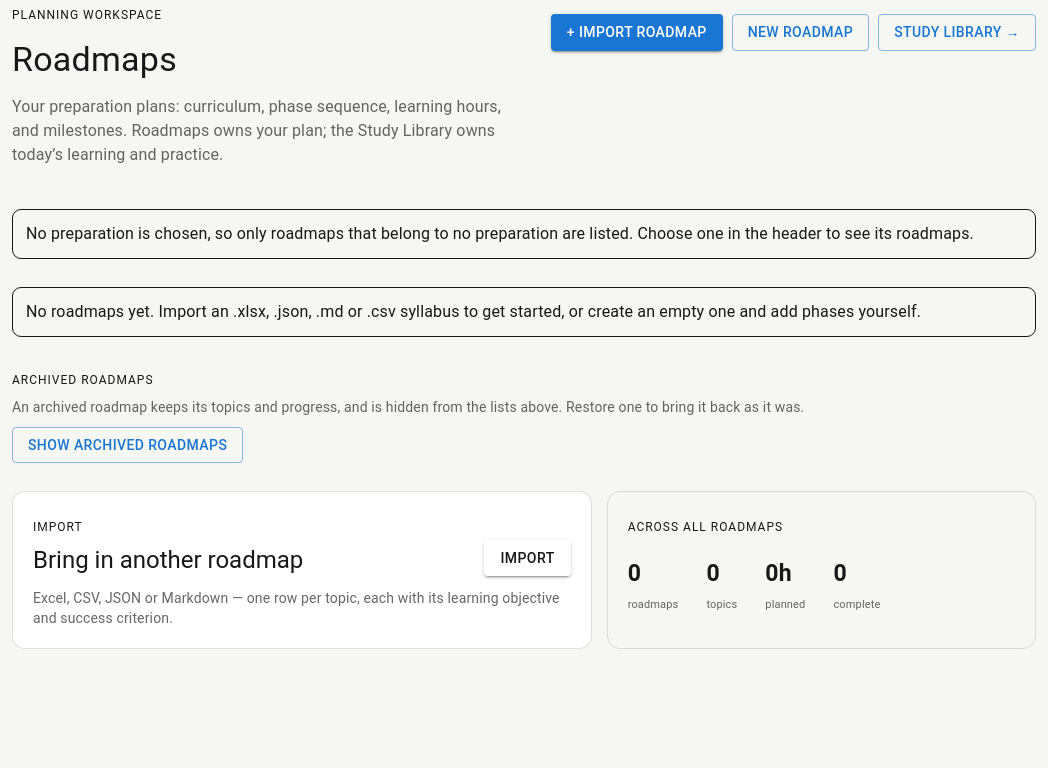
Test: RoadmapListPage: archived roadmaps can be restored › says a restore that failed changed nothing
Click the button "Show archived roadmaps" at (128, 445), box 12,427 -> 243,463
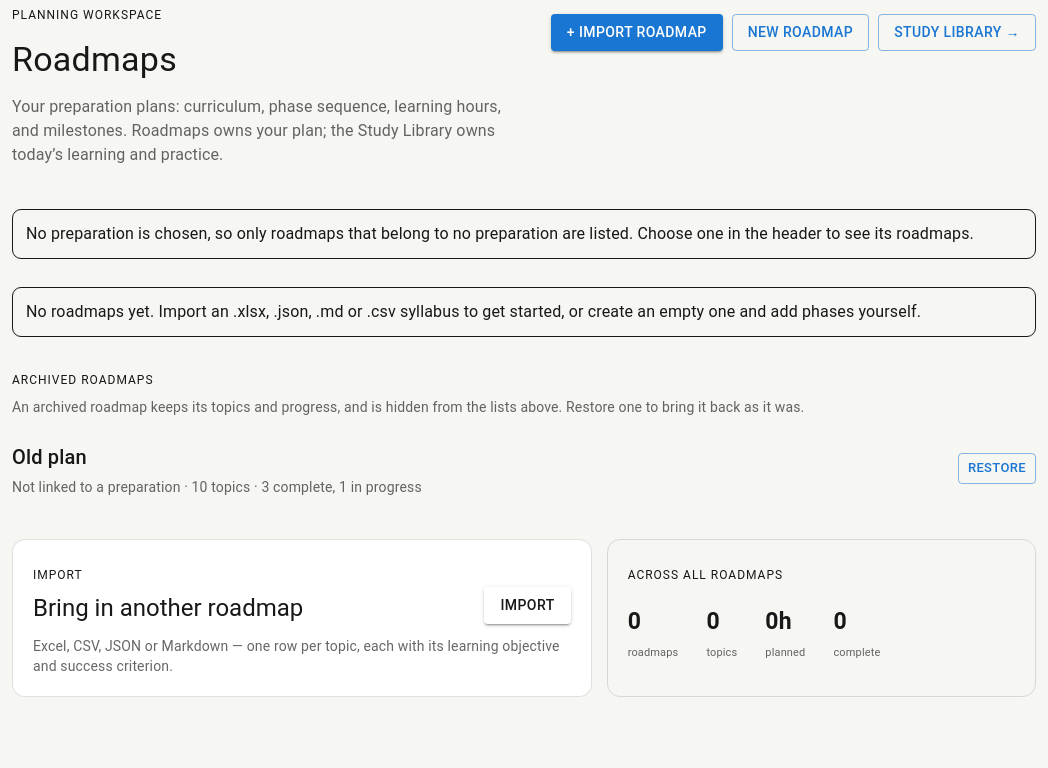
Click the button with aria-label "Restore Old plan" at (997, 469), box 958,453 -> 1036,484
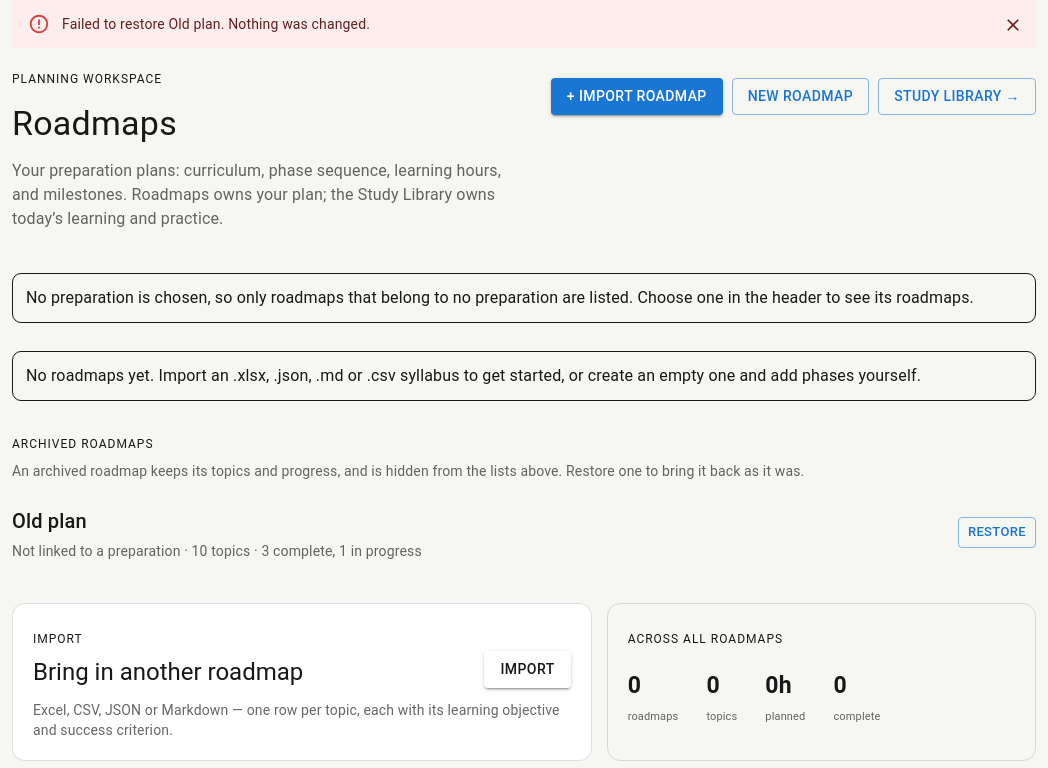
Now the text "Failed to restore Old plan. Nothing was changed." is shown, box 62,16 -> 370,32
